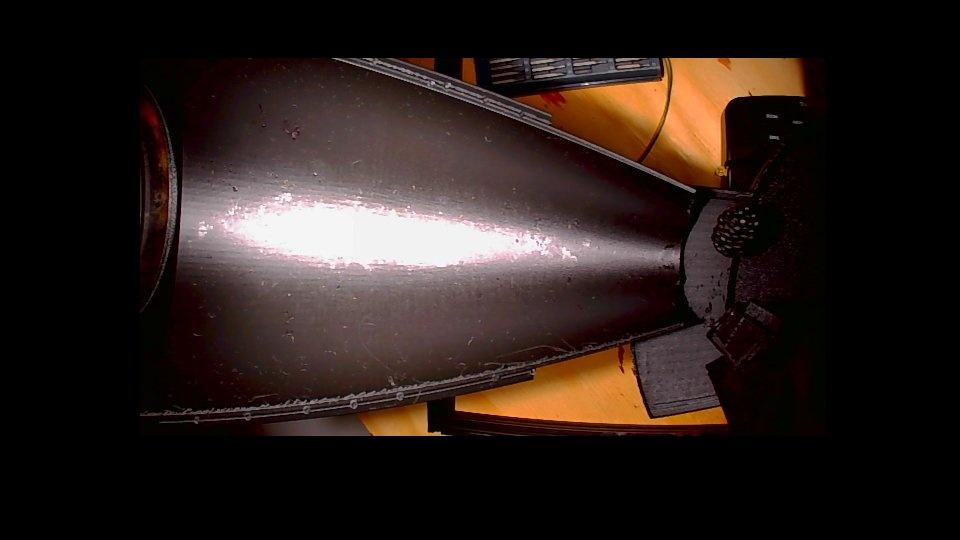berry: (711, 203, 762, 257)
